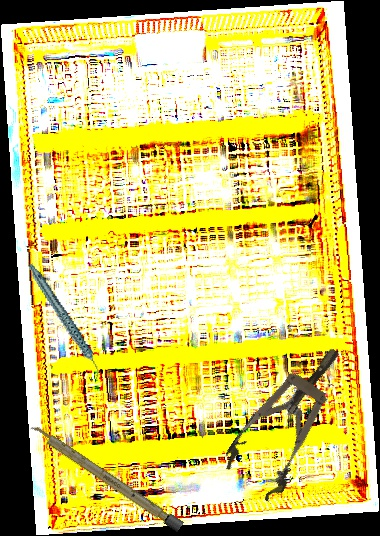Handpiece: (27, 254, 103, 388)
Scalpel Handle: (28, 421, 184, 533)
Speculum: (216, 331, 365, 506)
